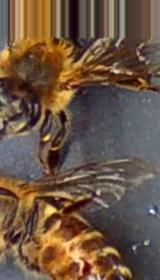varroa_mite: (66, 249, 93, 279)
